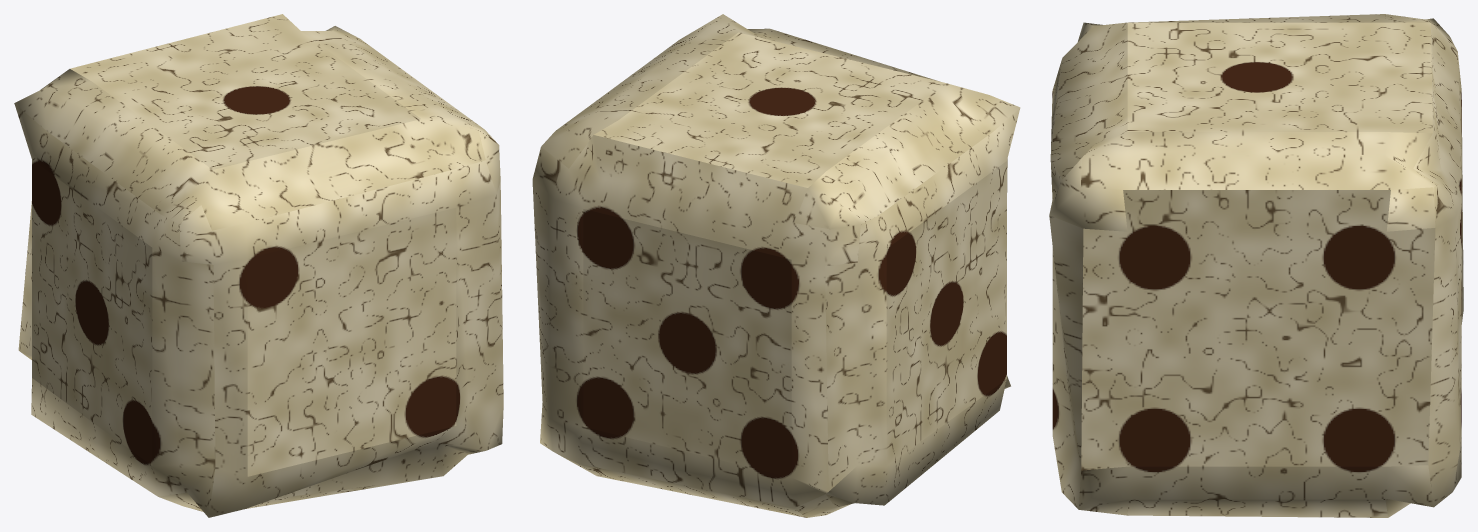
The model's file is Die_Bone.fbx.
3 renders of one model, left to right at view 1: azimuth 30°, elevation 25°; view 2: azimuth 150°, elevation 25°; view 3: azimuth 270°, elevation 25°, orthographic. The views are drawn at different scales.
Parts seen in each view (by area): view 1: Die_Bone; view 2: Die_Bone; view 3: Die_Bone.
Part boxes in pixels (box(x1,y1,x2,y2)): Die_Bone: box(14, 14, 503, 517); Die_Bone: box(532, 14, 1020, 517); Die_Bone: box(1049, 14, 1463, 517).
Bounding box in the file's own units: 0.2974 × 0.2952 × 0.2986.
1 material, 1 textured.
